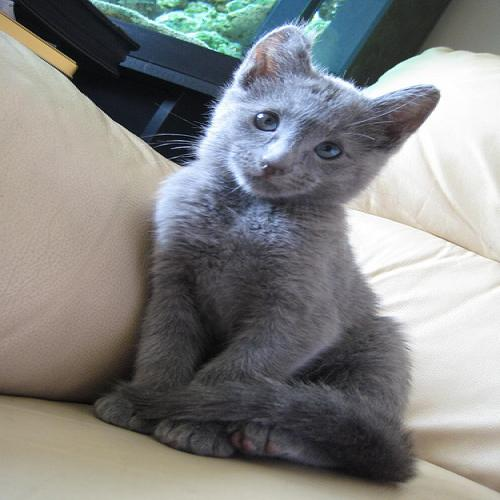rblue: (197, 15, 445, 215)
